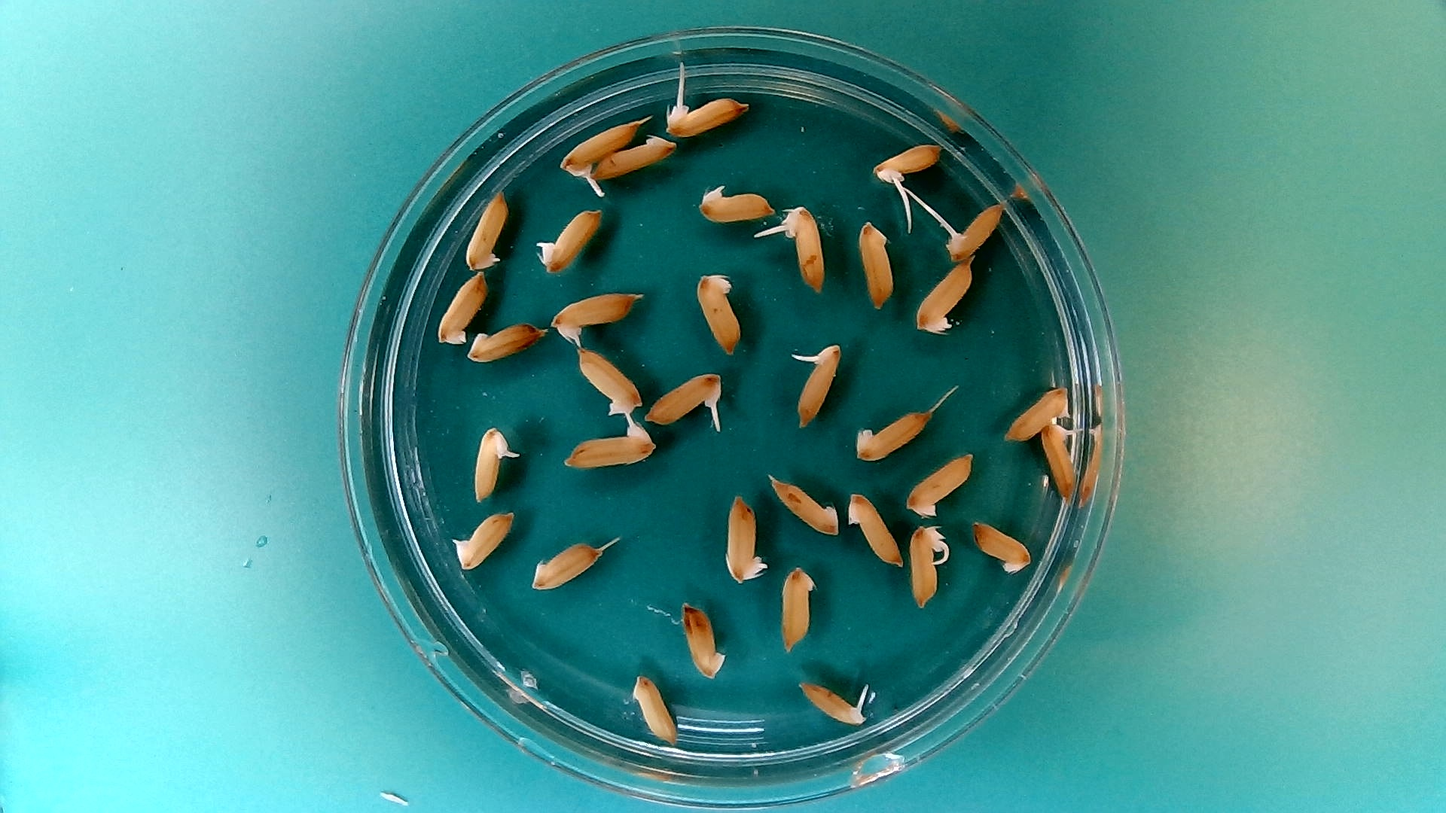no: (904, 446, 979, 520), (764, 470, 843, 537), (574, 344, 643, 419), (912, 258, 976, 338), (691, 266, 746, 358), (852, 404, 933, 464), (847, 489, 906, 569), (677, 596, 730, 683), (584, 131, 678, 180), (432, 268, 489, 348), (528, 535, 606, 593), (1000, 382, 1074, 442), (461, 185, 511, 273), (627, 670, 681, 747), (856, 217, 898, 312), (465, 317, 548, 364), (779, 559, 819, 656), (969, 516, 1034, 575)
yes: (548, 282, 648, 356), (1036, 414, 1097, 506), (532, 202, 606, 276), (642, 367, 728, 430), (557, 116, 635, 180), (561, 419, 658, 470), (721, 489, 770, 587), (781, 204, 829, 297), (796, 343, 845, 433), (945, 193, 1005, 262), (661, 95, 753, 139), (455, 507, 518, 570), (905, 522, 948, 613), (693, 180, 776, 224), (872, 137, 944, 185), (796, 680, 871, 726), (470, 427, 512, 504)
